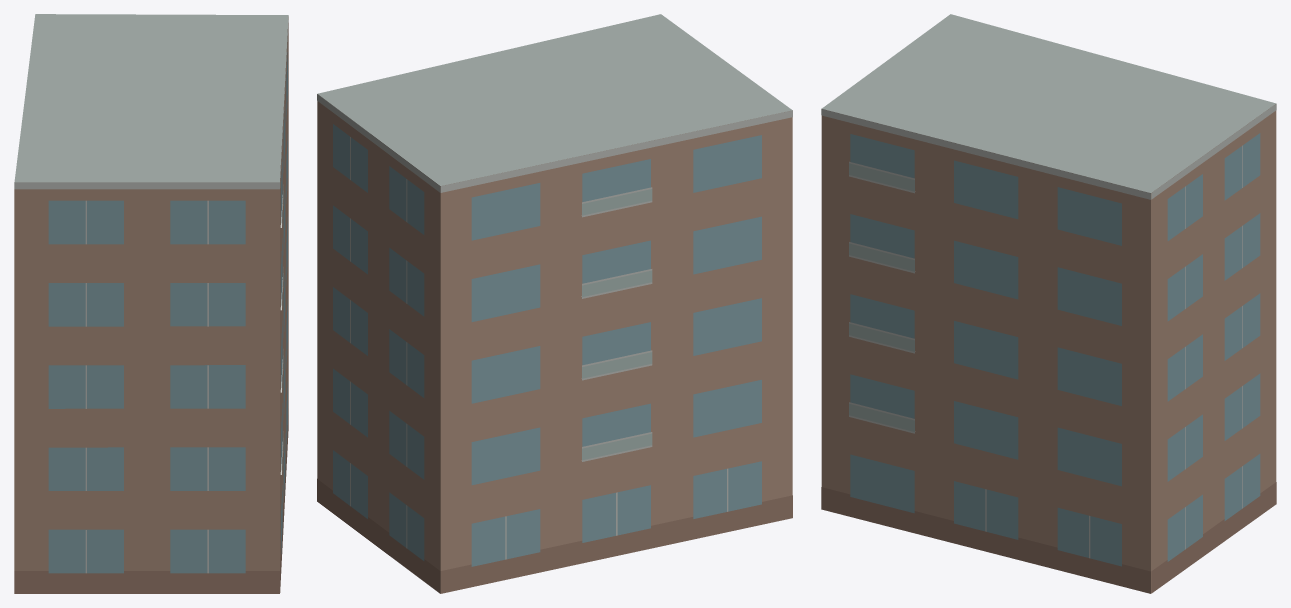
The model's file is survey-upis-32764437.glb.
3 views of the same model, side by side, from view 1: azimuth 30°, elevation 25°; view 2: azimuth 150°, elevation 25°; view 3: azimuth 270°, elevation 25° (orthographic). The views are drawn at different scales.
Parts seen in each view (by area): view 1: survey-upis-32764437.tmp; view 2: survey-upis-32764437.tmp; view 3: survey-upis-32764437.tmp.
Boxes of the visible parts, <box> form: survey-upis-32764437.tmp: <box>14,14,288,593</box>; survey-upis-32764437.tmp: <box>317,14,792,593</box>; survey-upis-32764437.tmp: <box>821,14,1276,593</box>.
Bounding box in the file's own units: 13.82 × 14.4 × 14.82.
